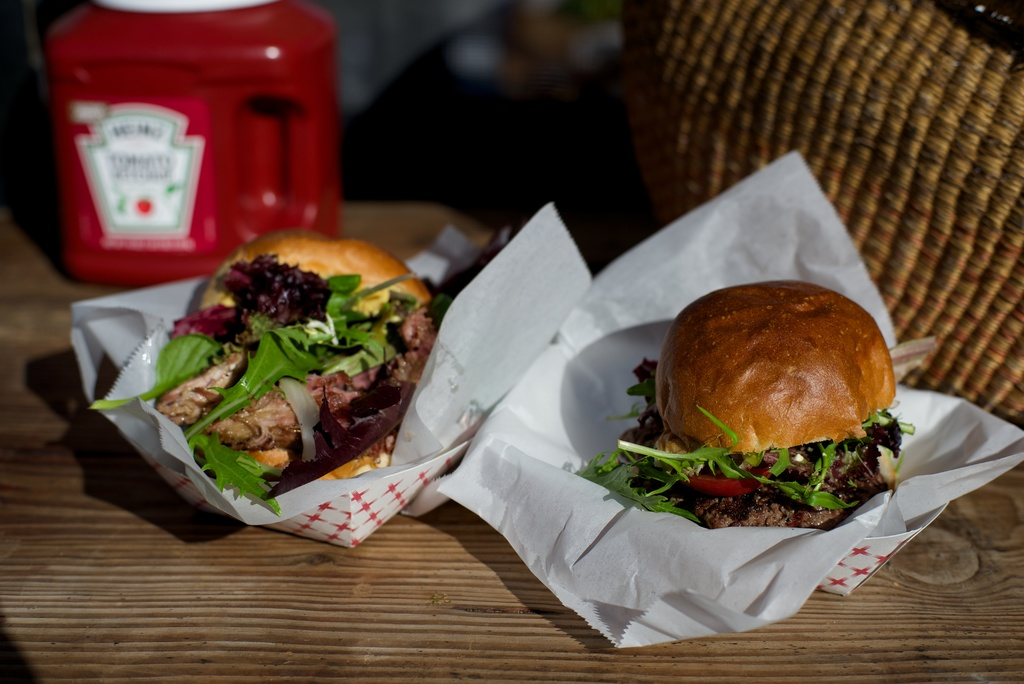Hamburger: (94, 228, 448, 517), (587, 278, 915, 530)
